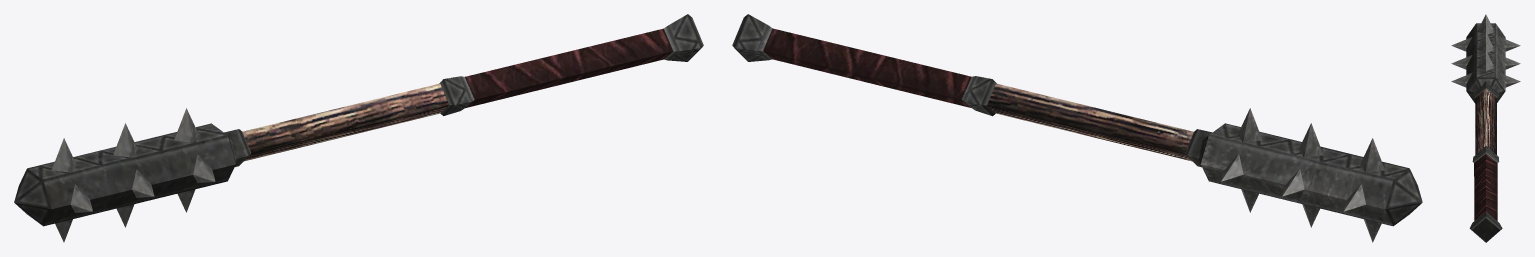
The model's file is KM_1H_BLUNT_DEX_05.glb.
The picture shows the model from 3 angles, left to right: view 1: azimuth 30°, elevation 25°; view 2: azimuth 150°, elevation 25°; view 3: azimuth 270°, elevation 25°; orthographic projection. The views are drawn at different scales.
Parts seen in each view (by area): view 1: KM_1H_BLUNT_DEX_05; view 2: KM_1H_BLUNT_DEX_05; view 3: KM_1H_BLUNT_DEX_05.
Boxes of the visible parts, x1=… form: KM_1H_BLUNT_DEX_05: x1=14, y1=14, x2=703, y2=242; KM_1H_BLUNT_DEX_05: x1=732, y1=14, x2=1422, y2=242; KM_1H_BLUNT_DEX_05: x1=1451, y1=14, x2=1520, y2=242.
Size of the model in its own units: 0.8643 by 0.1282 by 0.1284.
3 materials, 3 textured.
